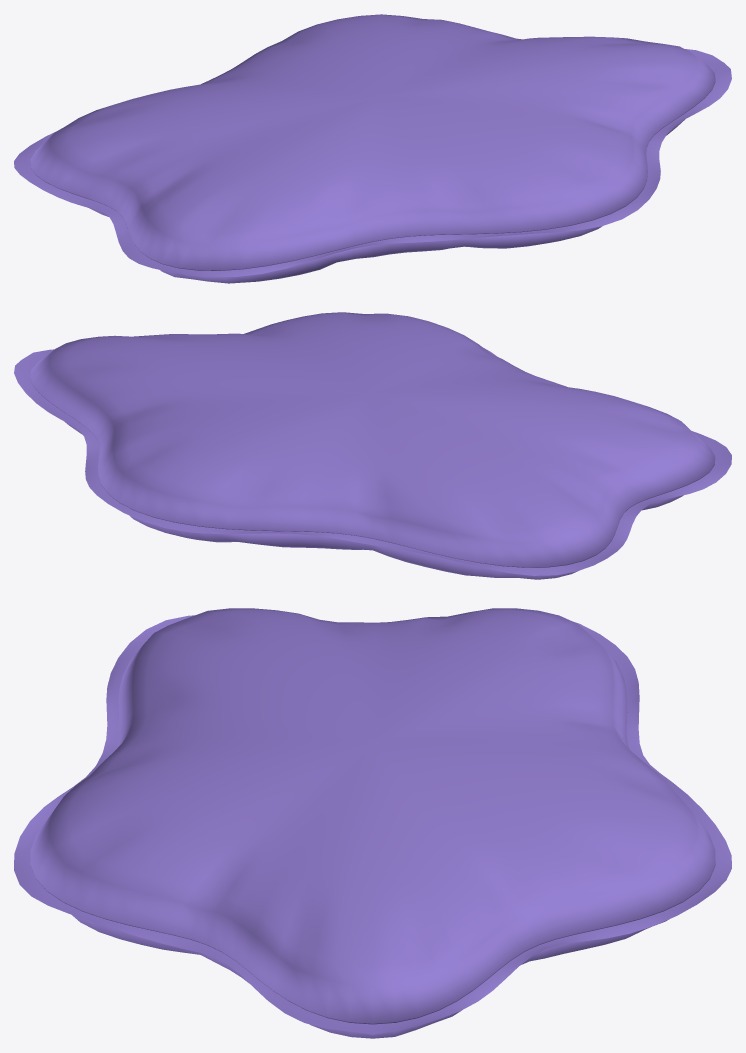
The model's file is cloud.glb.
3 renders of one model, top to bottom at view 1: azimuth 30°, elevation 25°; view 2: azimuth 150°, elevation 25°; view 3: azimuth 270°, elevation 25°, orthographic. The views are drawn at different scales.
Parts seen in each view (by area): view 1: Cloud, Cloud weld; view 2: Cloud, Cloud weld; view 3: Cloud, Cloud weld.
Boxes of the visible parts, bbox=[...] form: Cloud: bbox=[30, 14, 715, 283]; Cloud weld: bbox=[14, 49, 731, 276]; Cloud: bbox=[30, 312, 715, 579]; Cloud weld: bbox=[14, 348, 731, 575]; Cloud: bbox=[30, 608, 715, 1038]; Cloud weld: bbox=[14, 615, 731, 1034].
Bounding box in the file's own units: 1.9 × 0.28 × 1.37.
